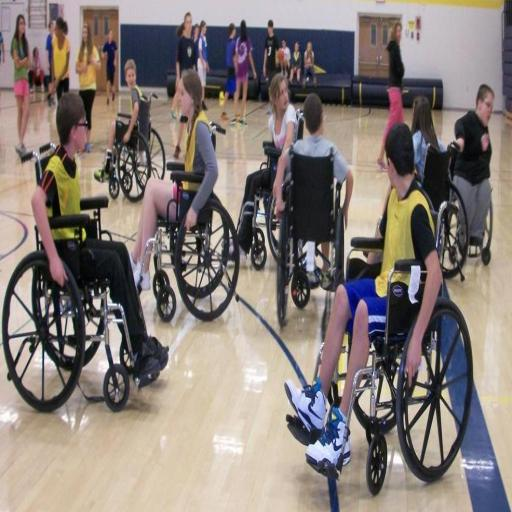person: (285, 123, 441, 470), (32, 94, 86, 285), (294, 94, 353, 227), (454, 85, 494, 245), (180, 70, 218, 229), (377, 22, 404, 170), (76, 23, 100, 152), (412, 97, 446, 183), (11, 14, 30, 155), (231, 20, 256, 125), (269, 74, 297, 151), (176, 12, 196, 94), (51, 17, 70, 101), (222, 23, 236, 120), (94, 121, 115, 181), (102, 29, 117, 105), (197, 21, 209, 111), (263, 20, 279, 83), (45, 21, 55, 106), (29, 48, 44, 91), (303, 42, 315, 86), (290, 42, 301, 83), (171, 72, 179, 120), (280, 39, 290, 75)
